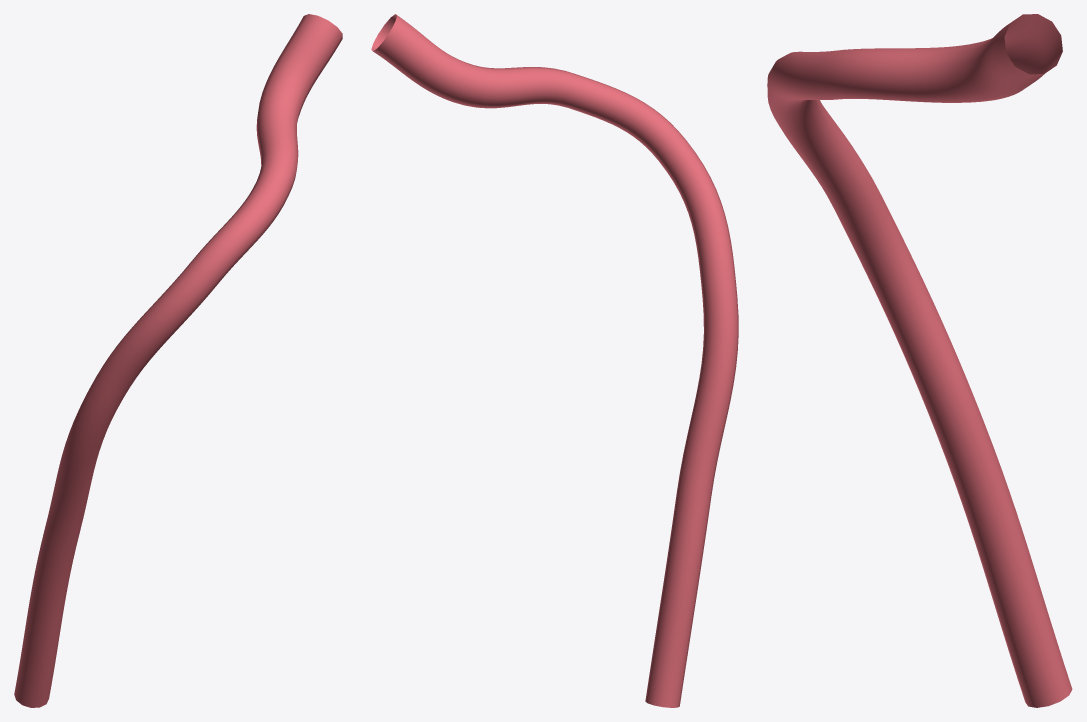
The picture shows the model from 3 angles, left to right: view 1: azimuth 30°, elevation 25°; view 2: azimuth 150°, elevation 25°; view 3: azimuth 270°, elevation 25°; orthographic projection. The views are drawn at different scales.
Parts seen in each view (by area): view 1: ZA_4b6dae72a7de53e9; view 2: ZA_4b6dae72a7de53e9; view 3: ZA_4b6dae72a7de53e9.
Part boxes in pixels (left/top/right/bottom): ZA_4b6dae72a7de53e9: left=14, top=14, right=342, bottom=707; ZA_4b6dae72a7de53e9: left=371, top=14, right=738, bottom=707; ZA_4b6dae72a7de53e9: left=767, top=14, right=1072, bottom=707.
Bounding box in the file's own units: 0.0145 × 0.0274 × 0.00864.
